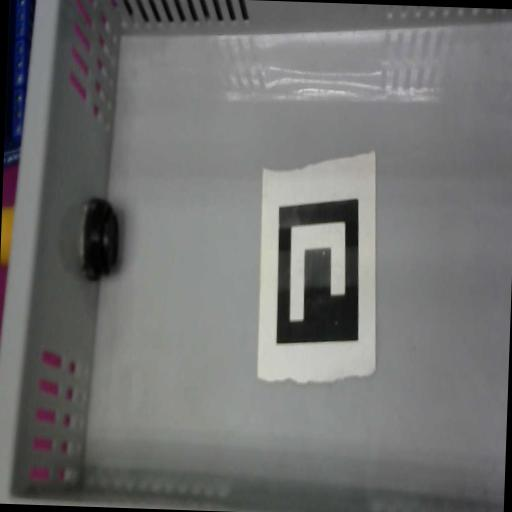QR: (255, 146, 382, 386)
relay_module: (3, 0, 36, 162)
